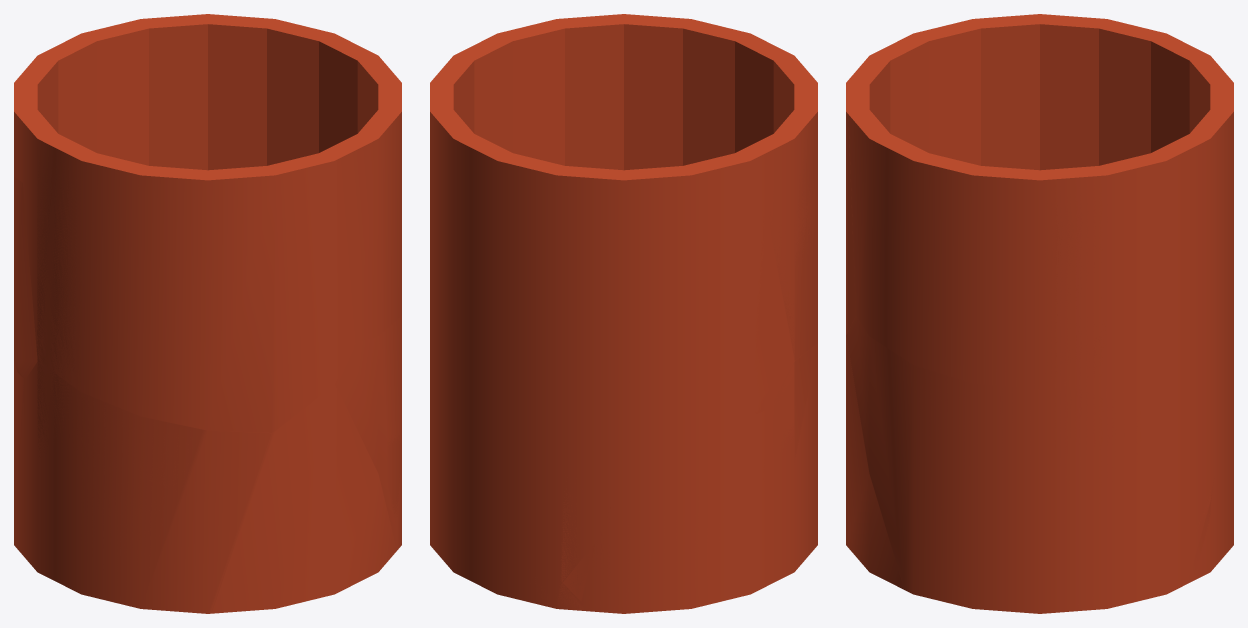
File: P_PoubelleColored_Breackable.fbx
3 views of the same model, side by side, from view 1: azimuth 30°, elevation 25°; view 2: azimuth 150°, elevation 25°; view 3: azimuth 270°, elevation 25° (orthographic).
Parts seen in each view (by area): view 1: P_Poubelle_Colored_Breakable_cell.005, P_Poubelle_Colored_Breakable, P_Poubelle_Colored_Breakable_cell.013, P_Poubelle_Colored_Breakable_cell.006, P_Poubelle_Colored_Breakable_cell.009, P_Poubelle_Colored_Breakable_cell.014, P_Poubelle_Colored_Breakable_cell.011, P_Poubelle_Colored_Breakable_cell.007, P_Poubelle_Colored_Breakable_cell.004, P_Poubelle_Colored_Breakable_cell.001; view 2: P_Poubelle_Colored_Breakable, P_Poubelle_Colored_Breakable_cell.004, P_Poubelle_Colored_Breakable_cell.005, P_Poubelle_Colored_Breakable_cell.009, P_Poubelle_Colored_Breakable_cell.001, P_Poubelle_Colored_Breakable_cell.013, P_Poubelle_Colored_Breakable_cell.014, P_Poubelle_Colored_Breakable_cell.008, P_Poubelle_Colored_Breakable_cell.010, P_Poubelle_Colored_Breakable_cell.002; view 3: P_Poubelle_Colored_Breakable, P_Poubelle_Colored_Breakable_cell.014, P_Poubelle_Colored_Breakable_cell.007, P_Poubelle_Colored_Breakable_cell.009, P_Poubelle_Colored_Breakable_cell.006, P_Poubelle_Colored_Breakable_cell.005, P_Poubelle_Colored_Breakable_cell.004, P_Poubelle_Colored_Breakable_cell.012.
Part boxes in pixels (box(x1,y1,x2,y2)): P_Poubelle_Colored_Breakable_cell.005: box(29, 139, 352, 432); P_Poubelle_Colored_Breakable: box(14, 18, 401, 613); P_Poubelle_Colored_Breakable_cell.013: box(37, 362, 271, 613); P_Poubelle_Colored_Breakable_cell.006: box(211, 385, 396, 613); P_Poubelle_Colored_Breakable_cell.009: box(14, 14, 279, 154); P_Poubelle_Colored_Breakable_cell.014: box(277, 31, 401, 343); P_Poubelle_Colored_Breakable_cell.011: box(117, 18, 314, 170); P_Poubelle_Colored_Breakable_cell.007: box(335, 316, 401, 550); P_Poubelle_Colored_Breakable_cell.004: box(14, 155, 117, 379); P_Poubelle_Colored_Breakable_cell.001: box(14, 379, 25, 557); P_Poubelle_Colored_Breakable: box(430, 14, 817, 613); P_Poubelle_Colored_Breakable_cell.004: box(691, 216, 794, 413); P_Poubelle_Colored_Breakable_cell.005: box(767, 112, 817, 360); P_Poubelle_Colored_Breakable_cell.009: box(434, 104, 777, 180); P_Poubelle_Colored_Breakable_cell.001: box(583, 406, 771, 613); P_Poubelle_Colored_Breakable_cell.013: box(771, 349, 817, 505); P_Poubelle_Colored_Breakable_cell.014: box(453, 61, 474, 133); P_Poubelle_Colored_Breakable_cell.008: box(562, 542, 595, 601); P_Poubelle_Colored_Breakable_cell.010: box(530, 582, 584, 610); P_Poubelle_Colored_Breakable_cell.002: box(560, 491, 582, 581); P_Poubelle_Colored_Breakable: box(846, 14, 1233, 613); P_Poubelle_Colored_Breakable_cell.014: box(848, 114, 1107, 389); P_Poubelle_Colored_Breakable_cell.007: box(846, 316, 1077, 613); P_Poubelle_Colored_Breakable_cell.009: box(1057, 16, 1233, 159); P_Poubelle_Colored_Breakable_cell.006: box(846, 336, 904, 589); P_Poubelle_Colored_Breakable_cell.005: box(846, 24, 1074, 334); P_Poubelle_Colored_Breakable_cell.004: box(1055, 98, 1171, 167); P_Poubelle_Colored_Breakable_cell.012: box(1064, 390, 1210, 609).
Bounding box in the file's own units: 214 × 260 × 211.
